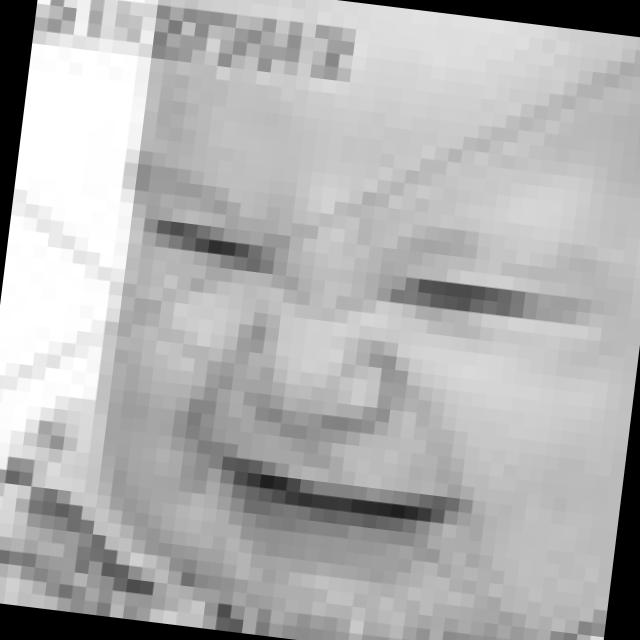disgust: (87, 160, 602, 599)
